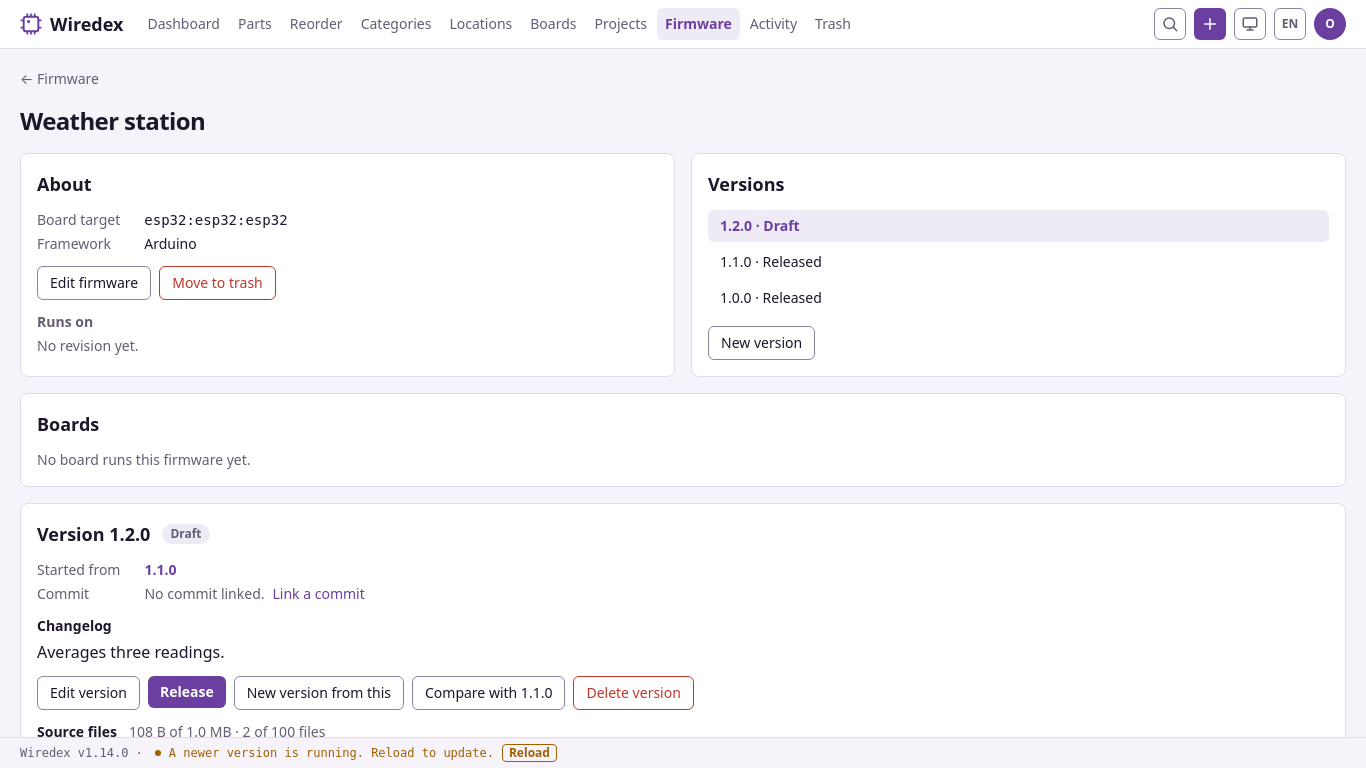
it: FirmwarePage › opens the highest version, links the others and marks the open one
Check: the button "New version" is shown, box [708,326,815,360]
What coordinates should you click on to do the following:
click the link "1.0.0 · Released"
I would click on:
 (771, 298)
Its box is [720,288,822,307].
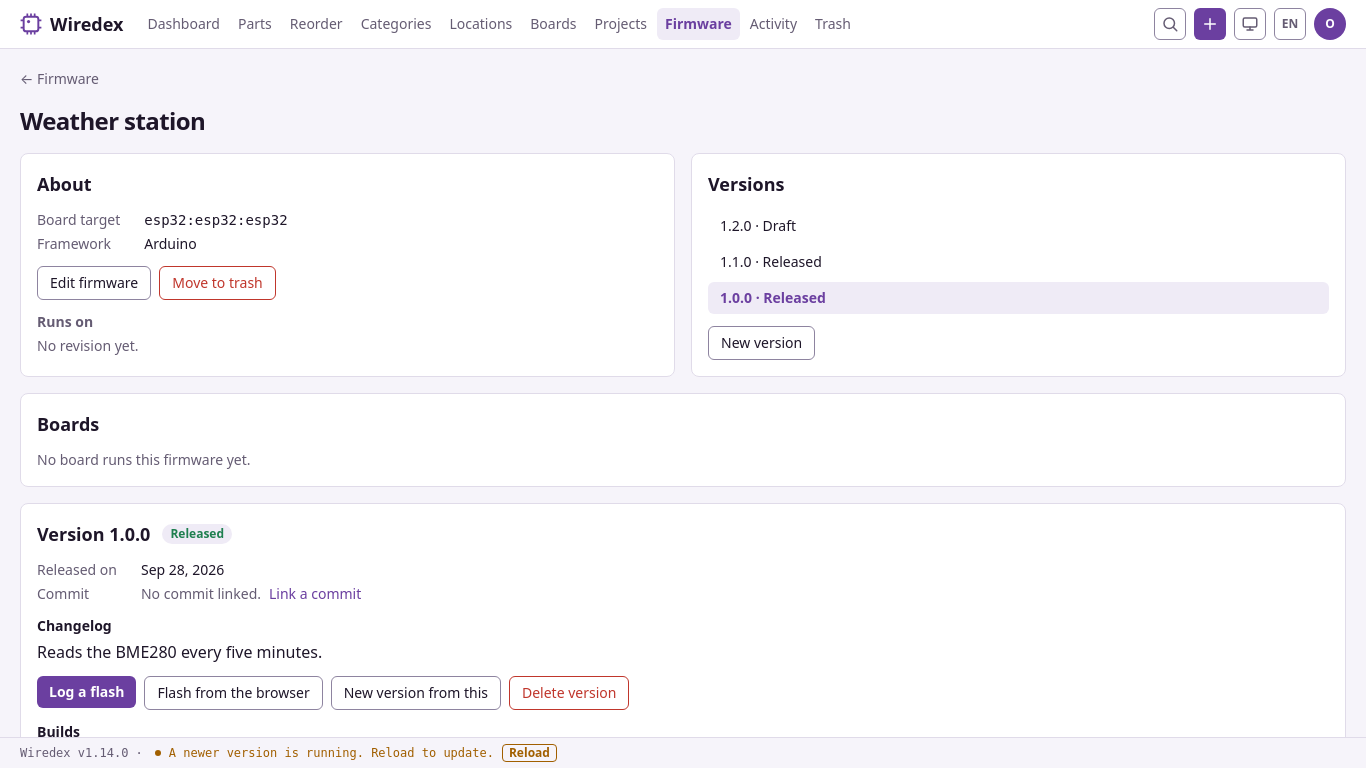
Check: the heading "Version 1.2.0" is gone
